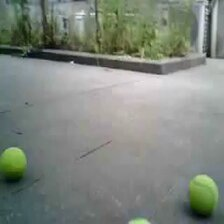tennis: (186, 174, 219, 214), (1, 147, 27, 179)
